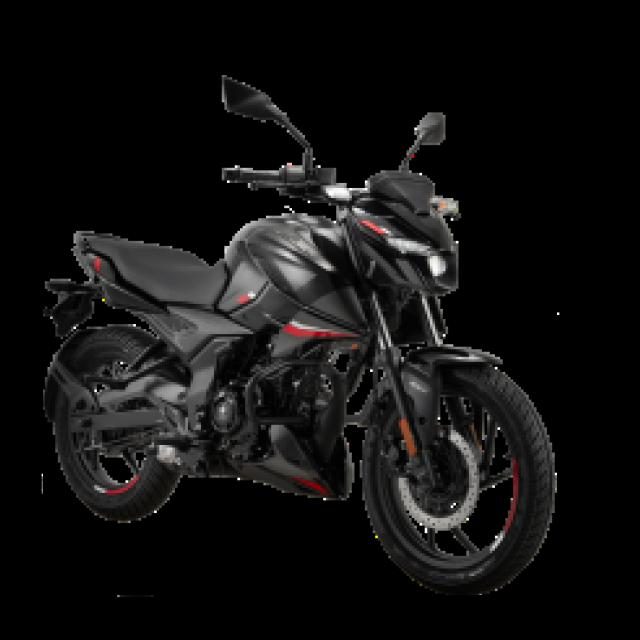motorcycle: (43, 76, 556, 595)
